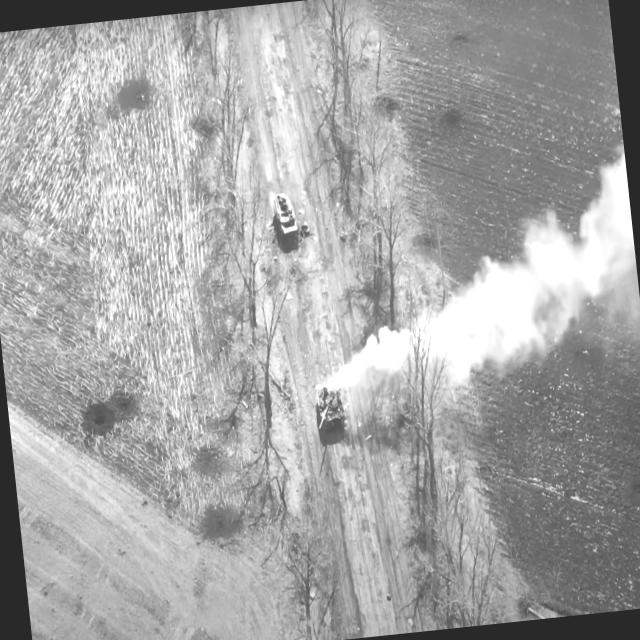Destroyed: (270, 189, 313, 249)
MBT: (312, 379, 348, 446)
